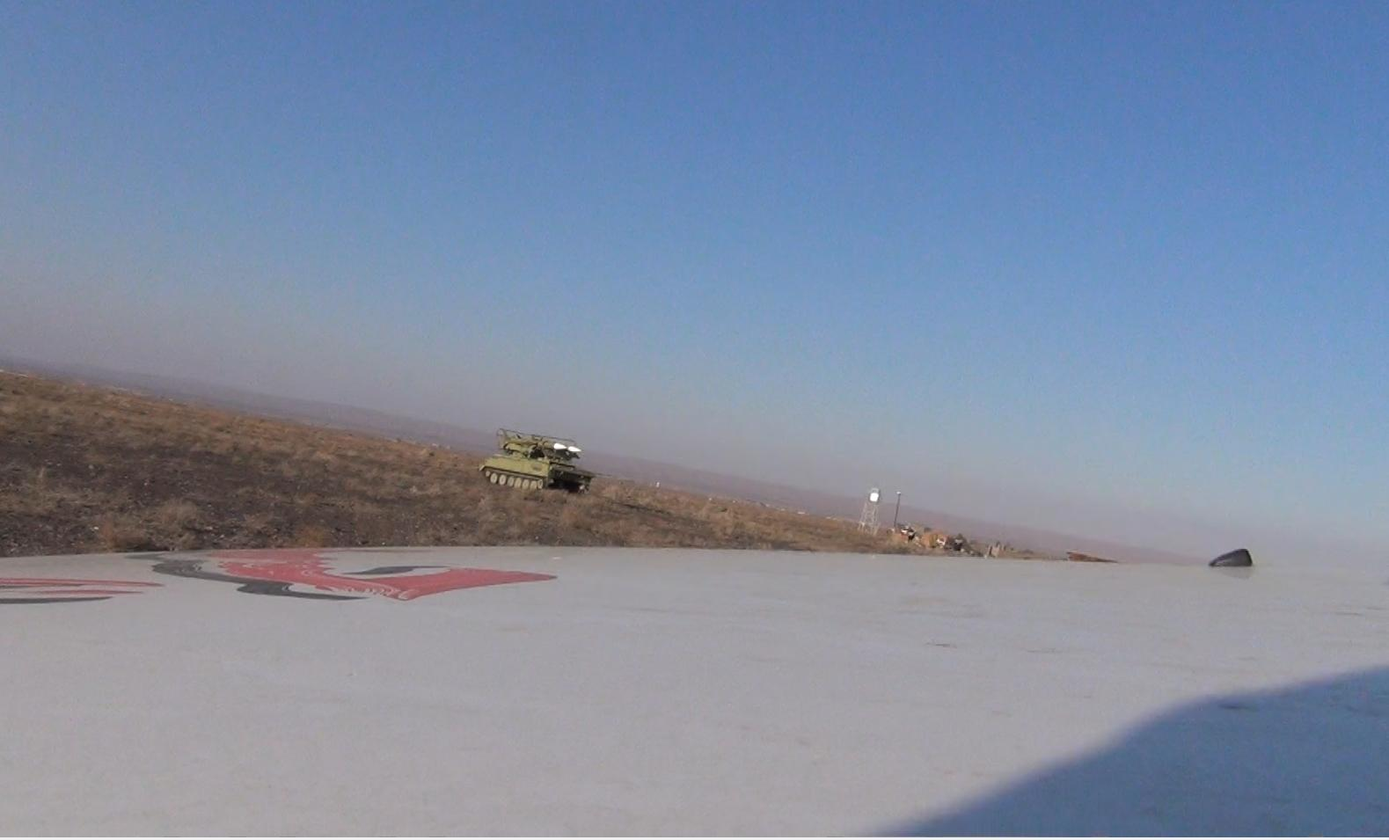armored_car: (479, 428, 597, 494)
